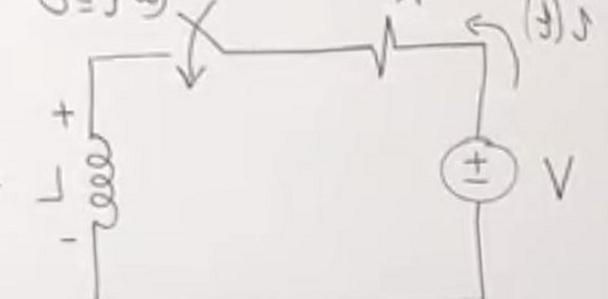Battery: (418, 126, 531, 215)
